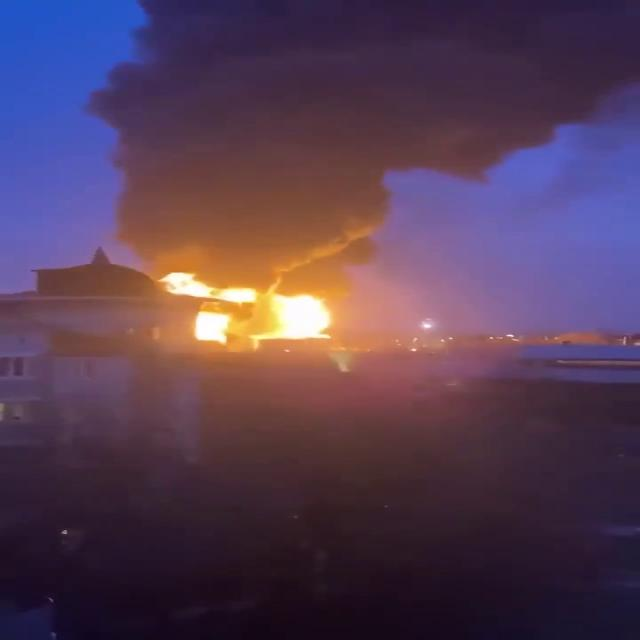Fire: (83, 0, 640, 277), (159, 274, 332, 352)
